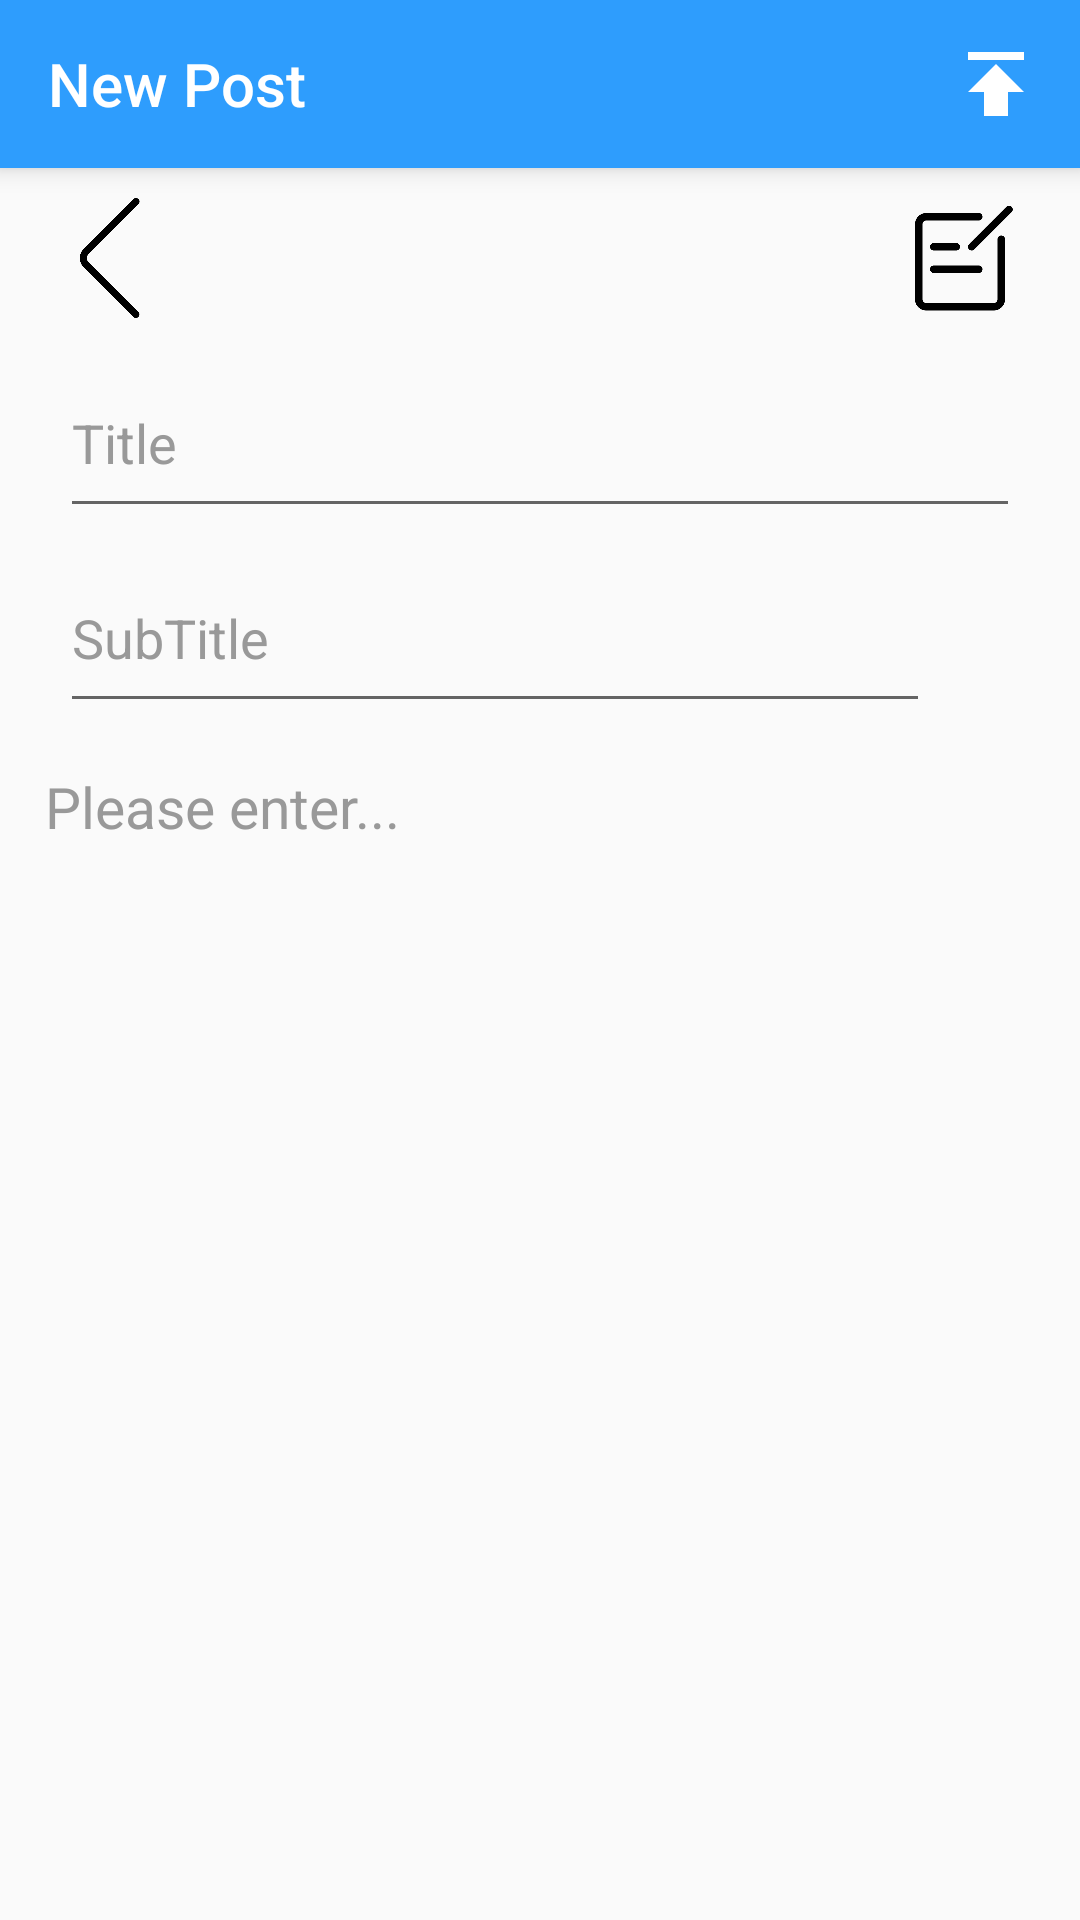

Point at icon controls on the screen. Image size 1080×1920, points as (x=x, y=y).
back: (x=110, y=258)
newpost: (x=964, y=258)
